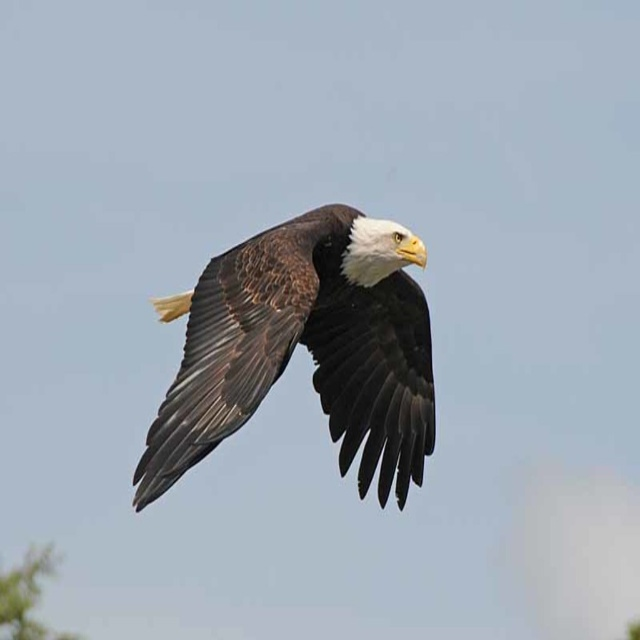Eagle: (130, 204, 436, 514)
